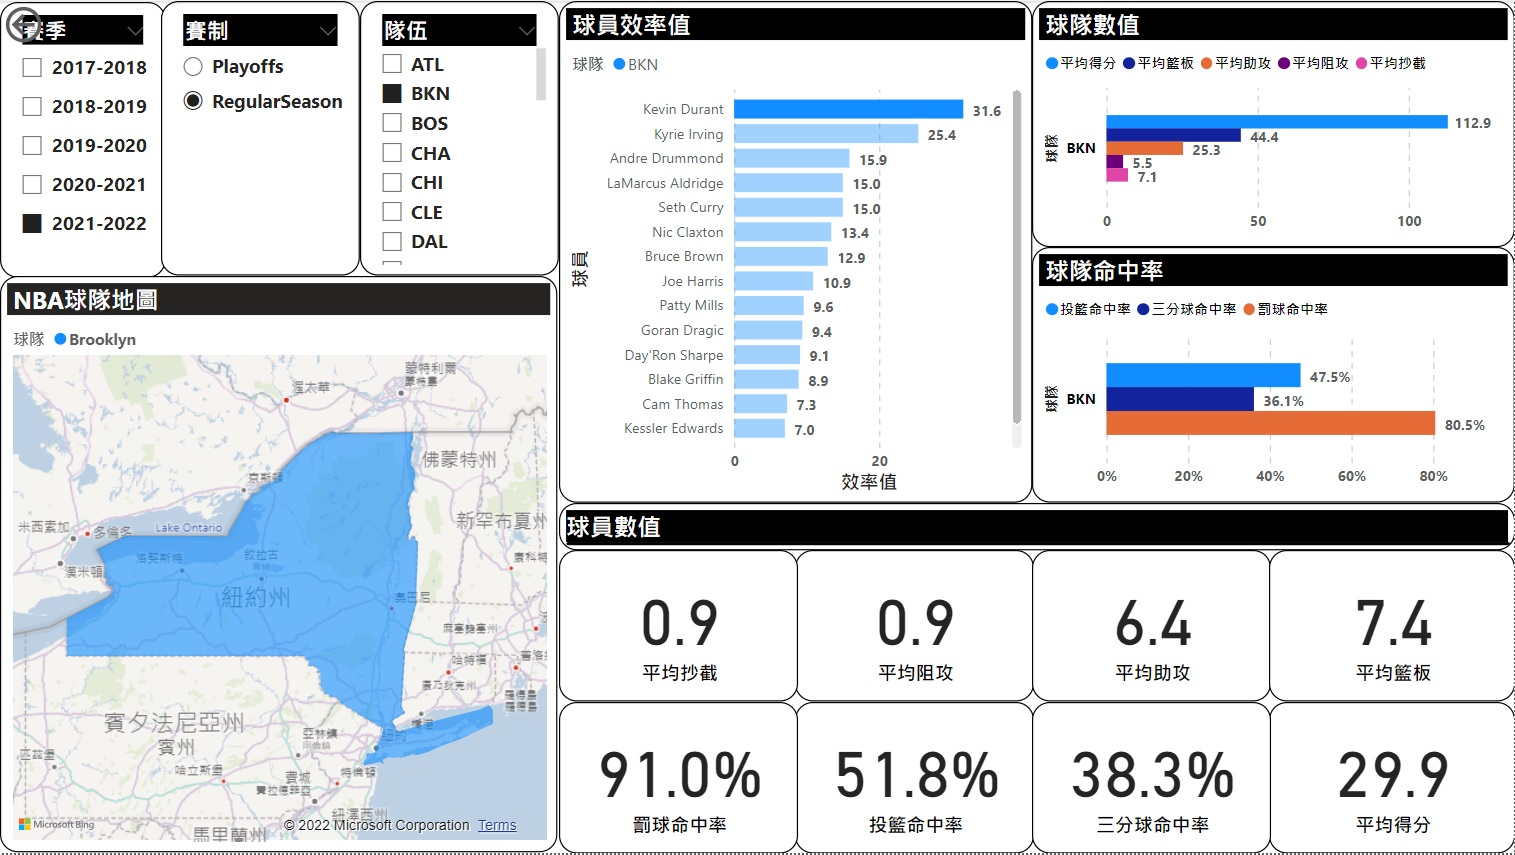

What the dashboard file says about the page in this screenshot:
{"tool":"powerbi","page":{"name":"NBA基礎分析","canvas":[1280,720],"ordinal":0},"visuals":[{"type":"slicer","fields":{"Values":["nbadb 20172022season_table.season"]},"box":[0,0.8,140.3,233.2],"z":0},{"type":"slicer","fields":{"Values":["nbadb 20172022seasontype_table.seasontype"]},"box":[136,0,168,232],"z":1000},{"type":"slicer","fields":{"Values":["nbadb 20172022team_table.team"]},"box":[304,0,168,232],"z":2000},{"type":"clusteredBarChart","title":"球員效率值","fields":{"Category":["nbadb 20172022all.player"],"Y":["nbadb 20172022all.efficiency"],"Series":["nbadb 20172022team_table.team"]},"box":[472,0,400,424],"z":3000},{"type":"clusteredBarChart","title":"球隊數值","fields":{"Y":["nbadb 20172022all_team.pointsPg","nbadb 20172022all_team.rebsPg","nbadb 20172022all_team.assistsPg","nbadb 20172022all_team.blocksPg","nbadb 20172022all_team.stealsPg"],"Category":["nbadb 20172022team_table.team"]},"box":[872,0,408,208],"z":4000},{"type":"actionButton","box":[0,0,100,40],"z":5000},{"type":"filledMap","title":"NBA球隊地圖","fields":{"Category":["nbadb 20172022state_table.state","nbadb 20172022all_team.team"],"Series":["nbadb 20172022city_table.city"]},"box":[0,232.4,470.7,486.8],"z":6000},{"type":"card","fields":{"Values":["nbadb 20172022all.pointsPg"]},"box":[1072,592,208,128],"z":7000},{"type":"card","fields":{"Values":["nbadb 20172022all.blocksPg"]},"box":[672,464,202,128],"z":8000},{"type":"card","fields":{"Values":["nbadb 20172022all.stealsPg"]},"box":[472,464,202,128],"z":9000},{"type":"card","fields":{"Values":["nbadb 20172022all.assistsPg"]},"box":[872,464,202,128],"z":10000},{"type":"card","fields":{"Values":["nbadb 20172022all.rebsPg"]},"box":[1072,464,208,128],"z":11000},{"type":"card","fields":{"Values":["nbadb 20172022all.fgpct"]},"box":[672,592,202,128],"z":12000},{"type":"card","fields":{"Values":["nbadb 20172022all.ftpct"]},"box":[472,592,202,128],"z":13000},{"type":"card","fields":{"Values":["nbadb 20172022all.tppct"]},"box":[872,592,202,128],"z":14000},{"type":"clusteredBarChart","title":"球隊命中率","fields":{"Y":["nbadb 20172022all_team.fgpct","nbadb 20172022all_team.tppct","nbadb 20172022all_team.ftpct"],"Category":["nbadb 20172022team_table.team"]},"box":[872,208,408,216],"z":15000},{"type":"shape","title":"  球員數值","box":[472,424,808,40],"z":16000}]}

Visuals, with their boxes in screenshot pixels (x1, y1, x2, y2), scaled from the page's 1280x720 canvas onto the 1515x855 screenshot:
slicer - nbadb 20172022season_table.season: box=[0, 1, 166, 278]
slicer - nbadb 20172022seasontype_table.seasontype: box=[161, 0, 360, 276]
slicer - nbadb 20172022team_table.team: box=[360, 0, 559, 276]
"球員效率值" clusteredBarChart: box=[559, 0, 1032, 504]
"球隊數值" clusteredBarChart: box=[1032, 0, 1514, 247]
actionButton: box=[0, 0, 118, 48]
"NBA球隊地圖" filledMap: box=[0, 276, 557, 854]
card - nbadb 20172022all.pointsPg: box=[1269, 703, 1514, 854]
card - nbadb 20172022all.blocksPg: box=[795, 551, 1034, 703]
card - nbadb 20172022all.stealsPg: box=[559, 551, 798, 703]
card - nbadb 20172022all.assistsPg: box=[1032, 551, 1271, 703]
card - nbadb 20172022all.rebsPg: box=[1269, 551, 1514, 703]
card - nbadb 20172022all.fgpct: box=[795, 703, 1034, 854]
card - nbadb 20172022all.ftpct: box=[559, 703, 798, 854]
card - nbadb 20172022all.tppct: box=[1032, 703, 1271, 854]
"球隊命中率" clusteredBarChart: box=[1032, 247, 1514, 504]
"  球員數值" shape: box=[559, 504, 1514, 551]
